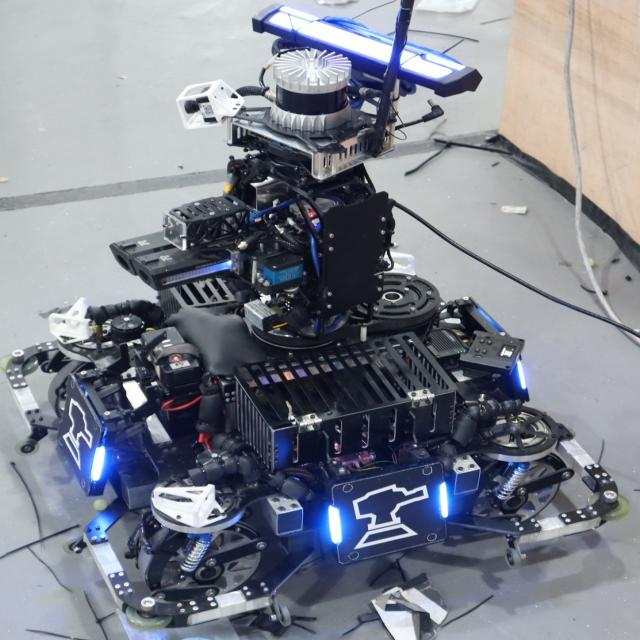Bs: (326, 468, 451, 559), (50, 374, 119, 494)
